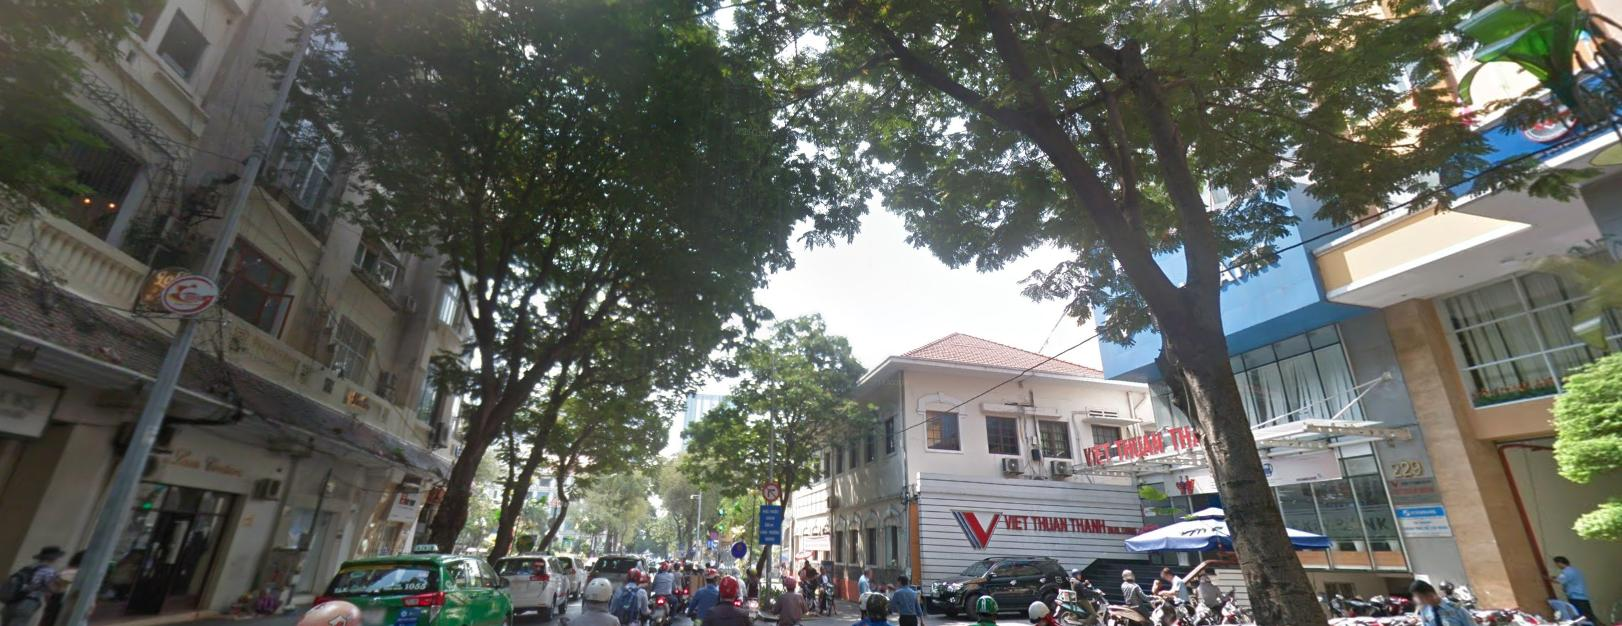Cam dung va do: (709, 531, 716, 538)
Cam re: (762, 481, 780, 500)
